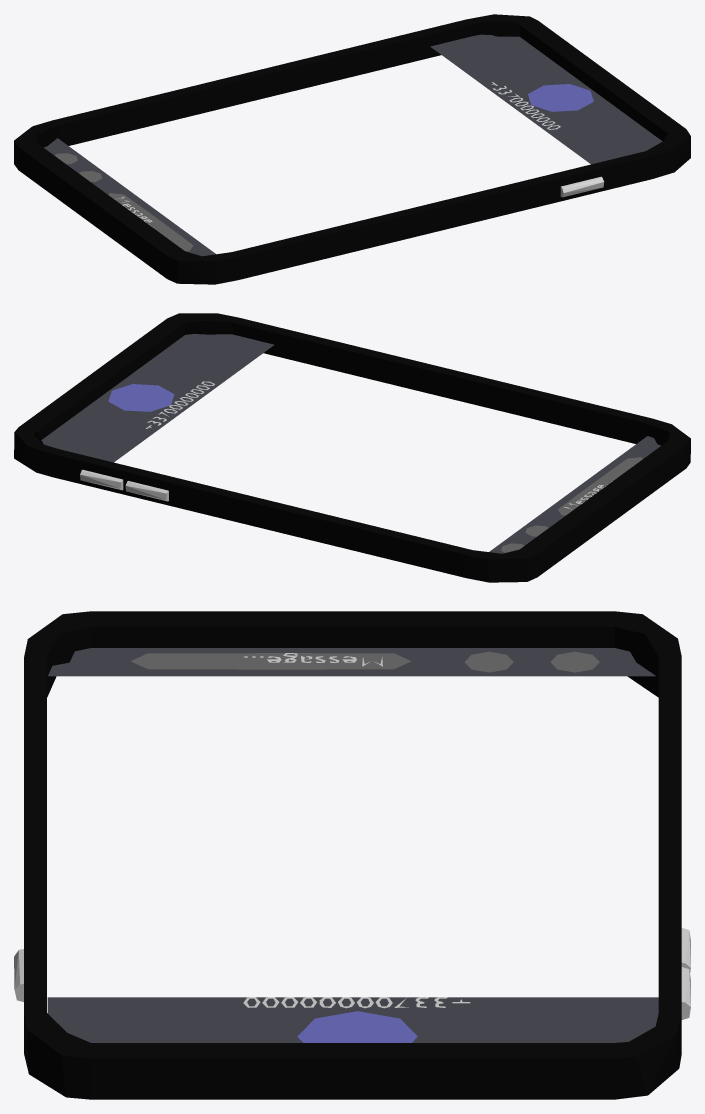
Rendered from teldeathrun.fbx.
The picture shows the model from 3 angles, top to bottom: view 1: azimuth 30°, elevation 25°; view 2: azimuth 150°, elevation 25°; view 3: azimuth 270°, elevation 25°; orthographic projection. The views are drawn at different scales.
Parts seen in each view (by area): view 1: Cube.003; view 2: Cube.003; view 3: Cube.003.
Boxes of the visible parts, box(x1,y1,x2,y2) form: Cube.003: box(14, 14, 690, 284); Cube.003: box(14, 313, 690, 582); Cube.003: box(14, 611, 690, 1099).
Bounding box in the file's own units: 2800 × 120 × 1791.
